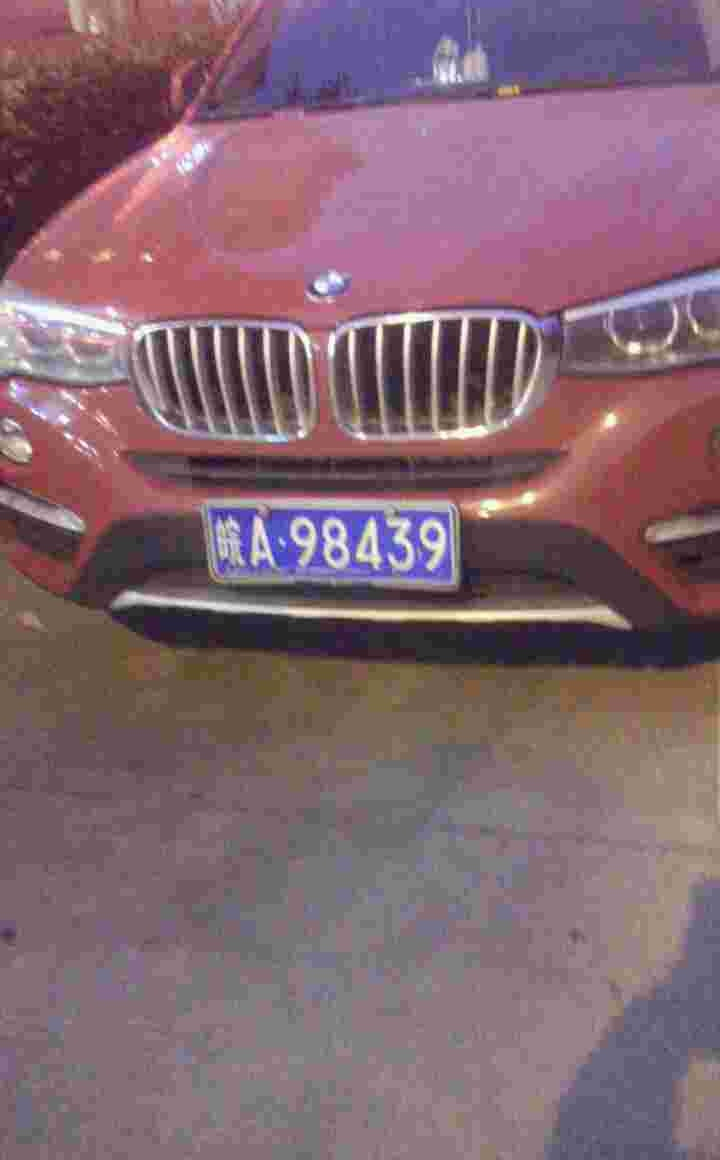plate: (206, 498, 463, 587)
